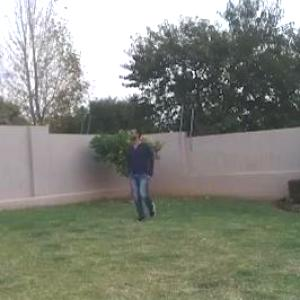follow: (125, 123, 159, 228)
